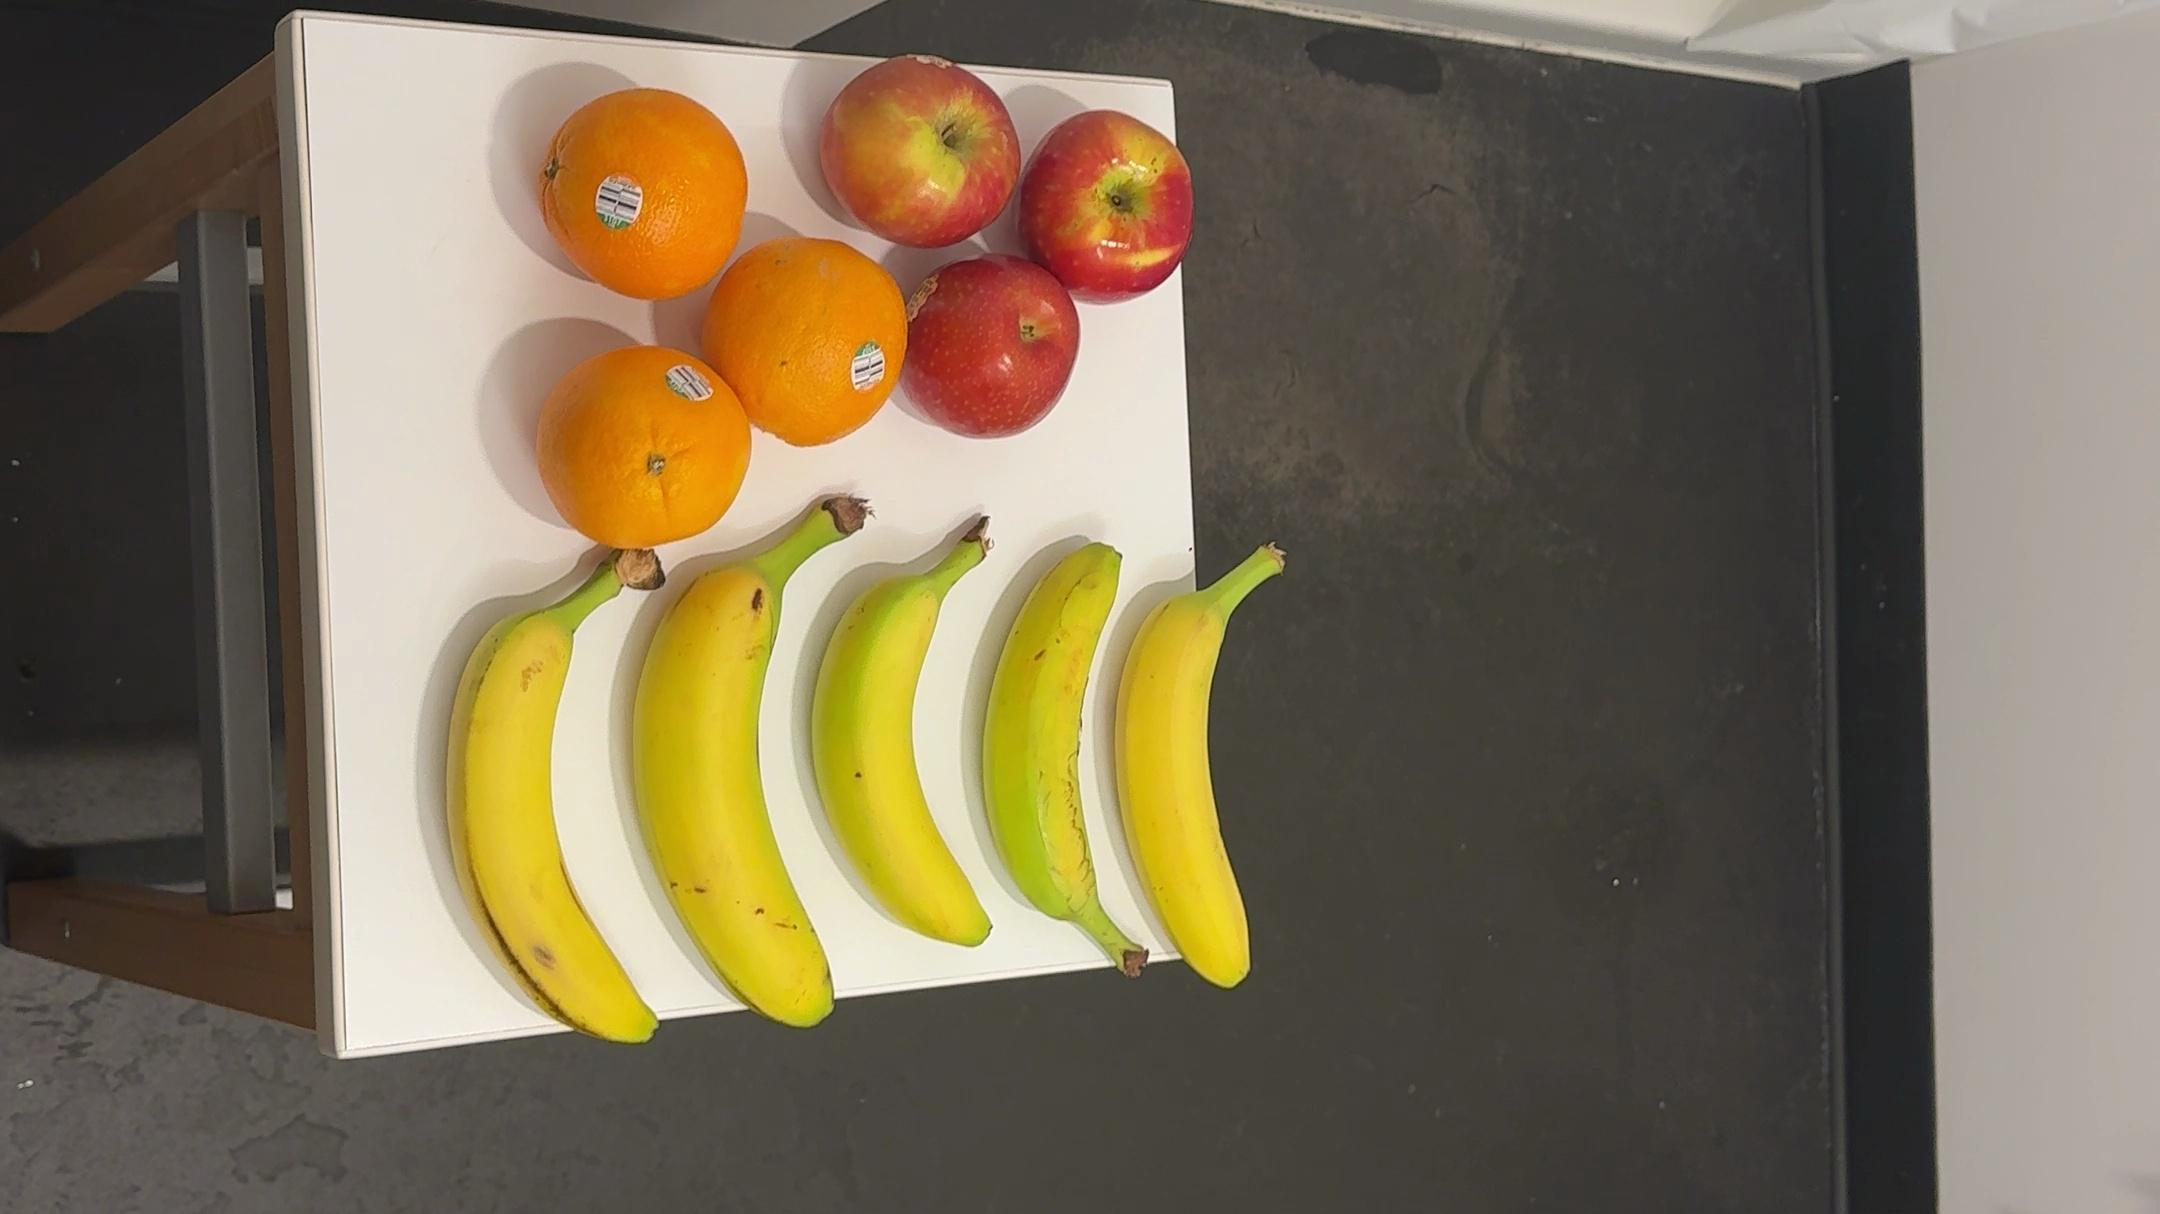apple: (1015, 101, 1205, 315), (814, 47, 1010, 249), (911, 246, 1079, 451)
banana: (653, 479, 860, 1045), (451, 537, 668, 1057), (978, 528, 1162, 1005), (823, 503, 1001, 990), (1119, 534, 1292, 1008)
orange: (697, 237, 918, 465), (537, 79, 752, 304), (537, 337, 748, 555)
